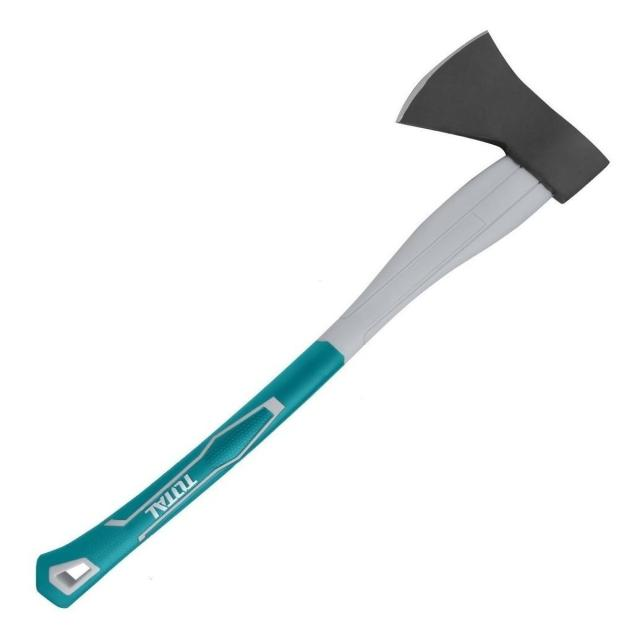Kapak: (16, 25, 584, 579)
